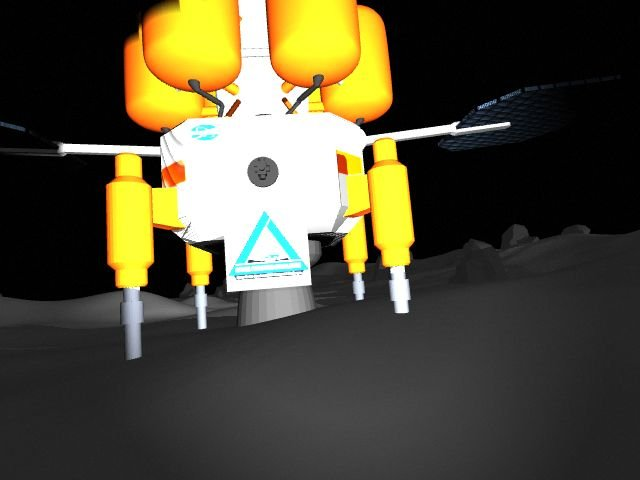basemarker: (229, 210, 309, 280)
